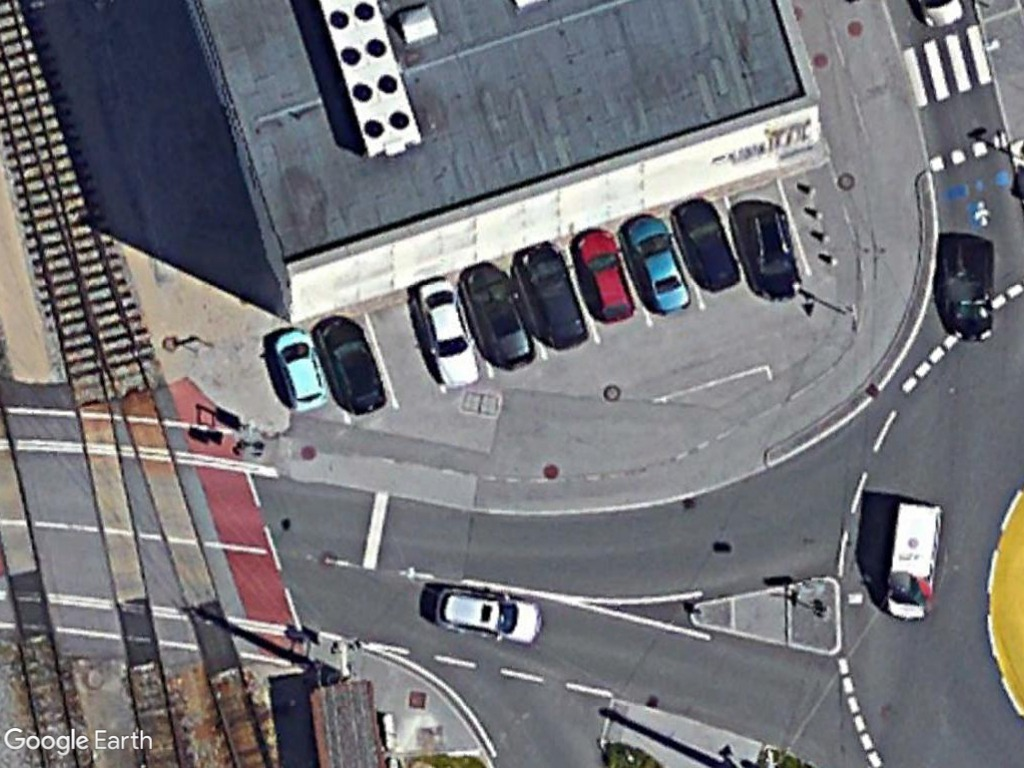car: (409, 270, 482, 394), (311, 312, 391, 416), (616, 211, 695, 316), (428, 582, 549, 649), (565, 224, 639, 327), (669, 198, 740, 296), (262, 324, 333, 417), (742, 200, 804, 306)
van: (879, 490, 943, 627)
